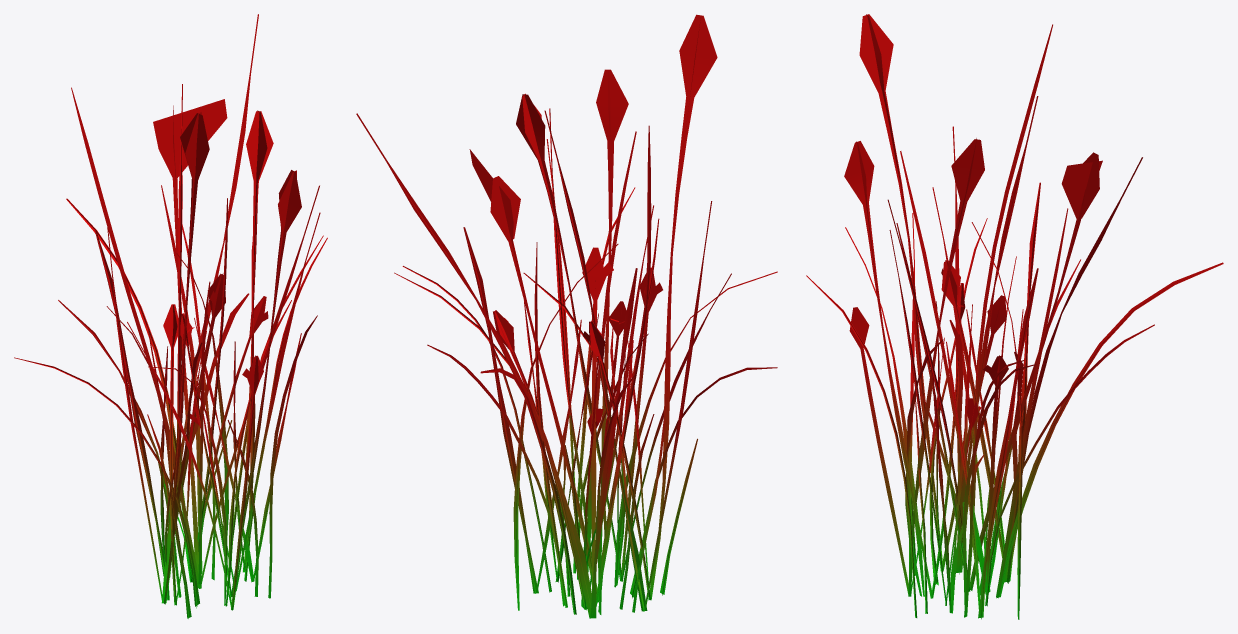
File: ueyoebmia_Var5_LOD0.fbx
The picture shows the model from 3 angles, left to right: view 1: azimuth 30°, elevation 25°; view 2: azimuth 150°, elevation 25°; view 3: azimuth 270°, elevation 25°; orthographic projection. The views are drawn at different scales.
Visible parts, largest first — view 1: _e897_Var5_LOD0; view 2: _e897_Var5_LOD0; view 3: _e897_Var5_LOD0.
Boxes of the visible parts, x1,y1,x2,y2 form: _e897_Var5_LOD0: [14, 14, 327, 618]; _e897_Var5_LOD0: [356, 14, 777, 618]; _e897_Var5_LOD0: [806, 14, 1223, 619].
Size of the model in its own units: 27.28 by 41.19 by 28.02.
